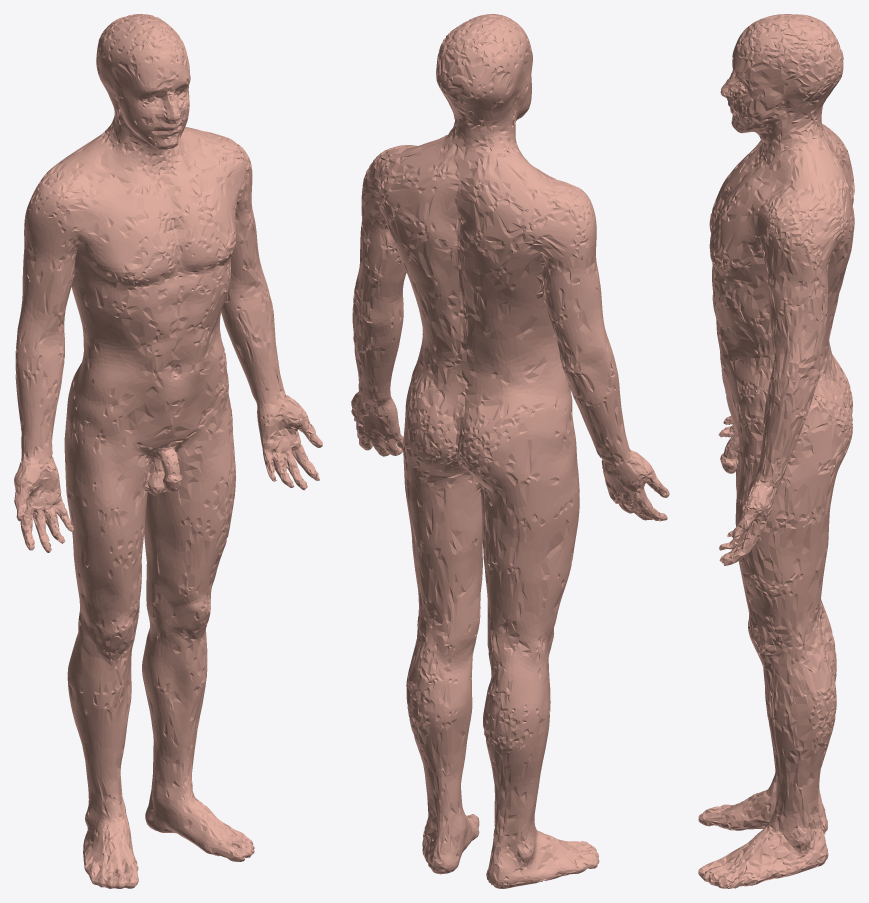
Rendered from pelle.glb.
The picture shows the model from 3 angles, left to right: view 1: azimuth 30°, elevation 25°; view 2: azimuth 150°, elevation 25°; view 3: azimuth 270°, elevation 25°; orthographic projection. The views are drawn at different scales.
Parts seen in each view (by area): view 1: skin; view 2: skin; view 3: skin.
Boxes of the visible parts, x1,y1,x2,y2 form: skin: (14,14,322,888); skin: (351,14,669,888); skin: (698,14,854,888).
Bounding box in the file's own units: 664 × 1719 × 292.
